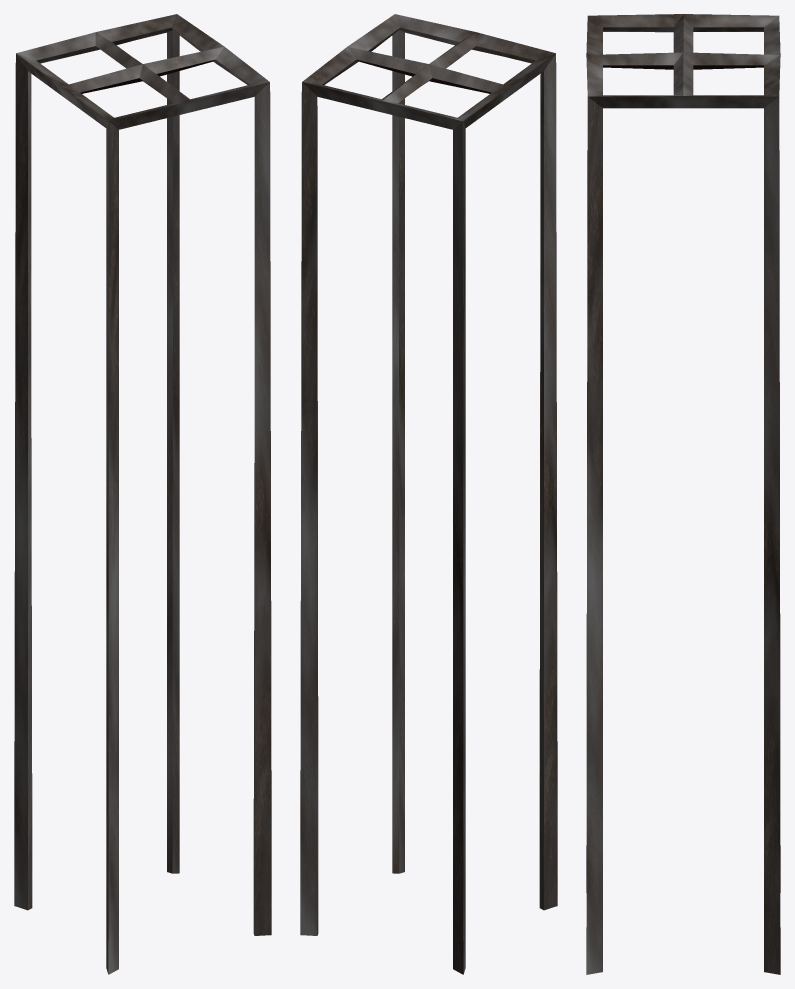
The model's file is metalfloor.fbx.
3 views of the same model, side by side, from view 1: azimuth 30°, elevation 25°; view 2: azimuth 150°, elevation 25°; view 3: azimuth 270°, elevation 25° (orthographic). The views are drawn at different scales.
Parts seen in each view (by area): view 1: metalfloor; view 2: metalfloor; view 3: metalfloor.
Part boxes in pixels (box(x1,y1,x2,y2)): metalfloor: box(14, 14, 271, 974); metalfloor: box(300, 14, 557, 974); metalfloor: box(586, 14, 780, 974).
Size of the model in its own units: 2 by 10 by 2.
